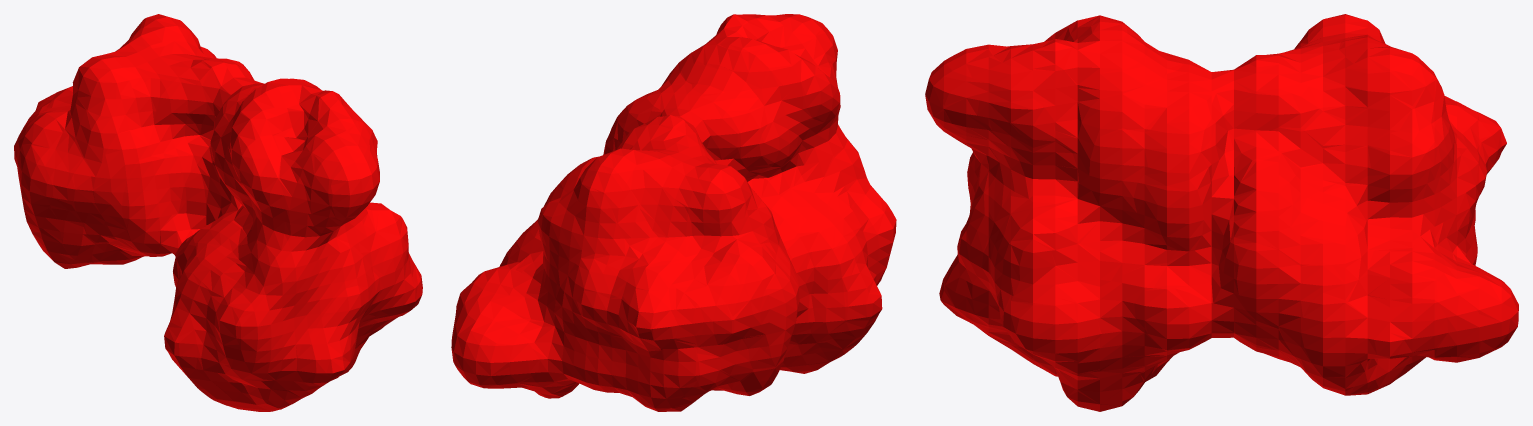
File: pth_coarse.dae
The picture shows the model from 3 angles, left to right: view 1: azimuth 30°, elevation 25°; view 2: azimuth 150°, elevation 25°; view 3: azimuth 270°, elevation 25°; orthographic projection. The views are drawn at different scales.
Parts seen in each view (by area): view 1: pth; view 2: pth; view 3: pth.
Boxes of the visible parts, left/top/right/bottom form: pth: left=14, top=14, right=422, bottom=411; pth: left=451, top=14, right=896, bottom=411; pth: left=925, top=14, right=1518, bottom=411.
Size of the model in its own units: 61.93 by 61.7 by 90.6.
